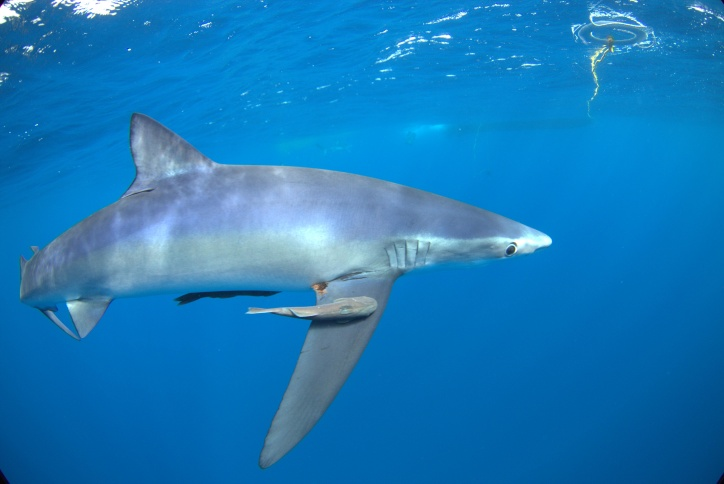Azul: (11, 92, 603, 476)
